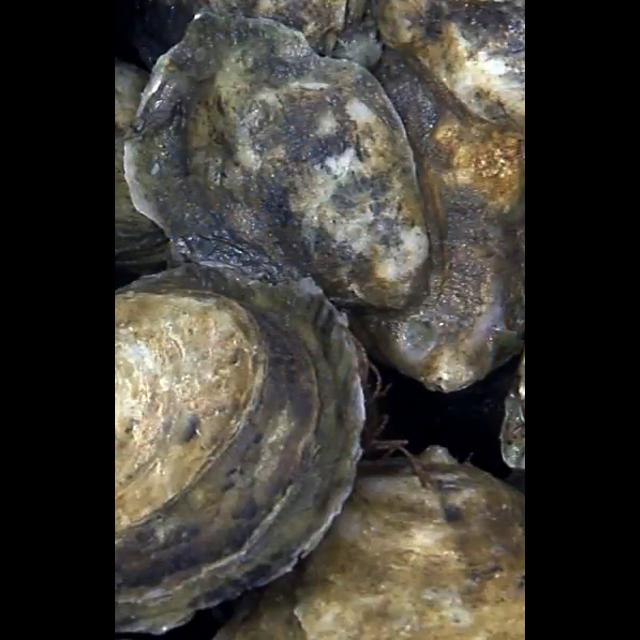Oyster-Closed: (125, 13, 445, 316), (115, 263, 368, 634), (344, 46, 525, 394), (215, 444, 525, 640), (375, 0, 525, 127), (115, 57, 173, 274), (210, 0, 368, 58), (127, 0, 214, 62), (503, 351, 525, 468)
